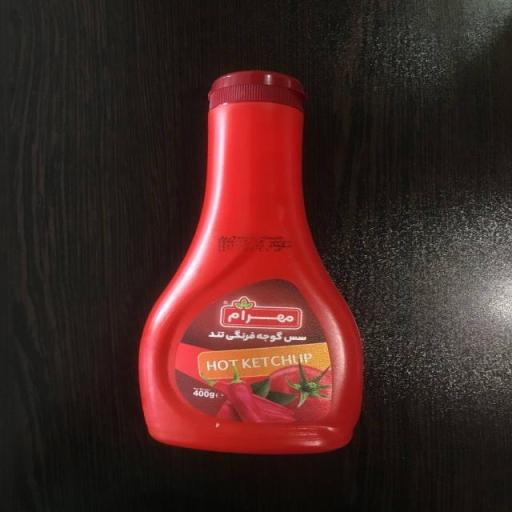plastic: (139, 67, 368, 458)
